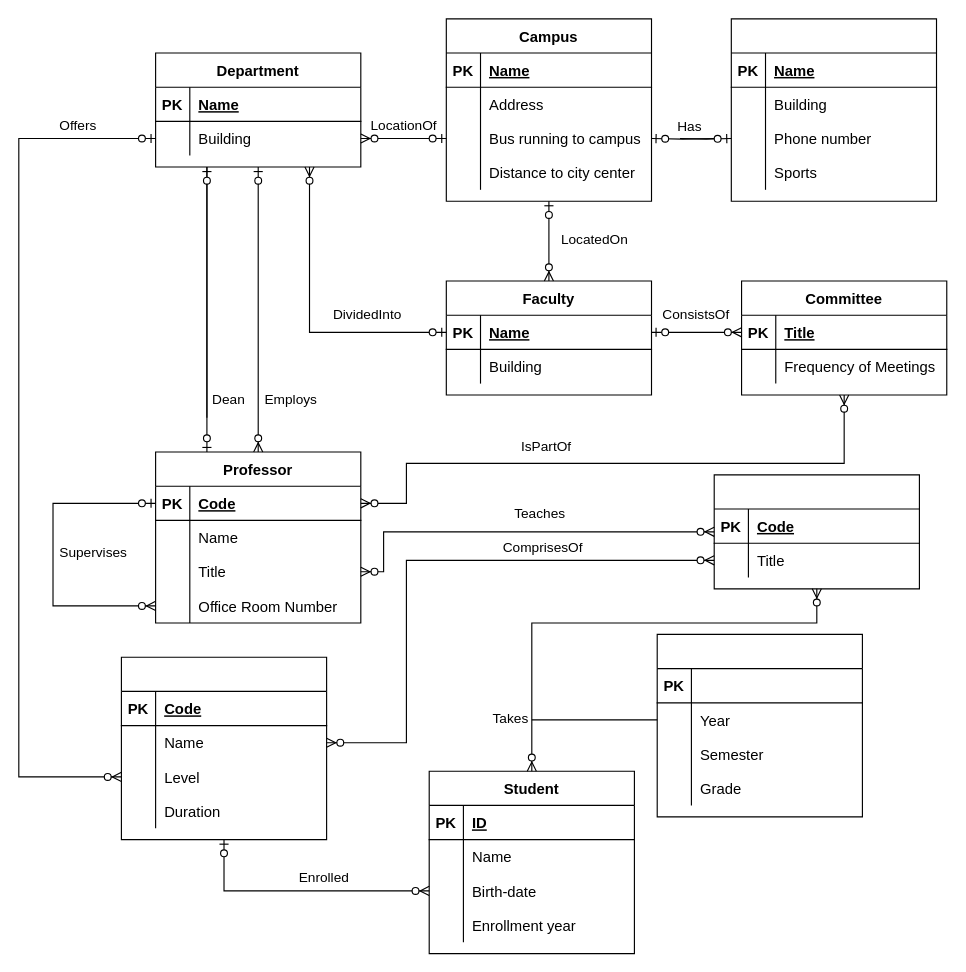
The diagram is 966 pixels wide and 972 high, and some of its shapes have lost their labels. The box of each missing label's shape, as (x1, y1, x2, y2) in pixels:
Club: (730, 18, 937, 201)
Course: (713, 474, 919, 589)
Program: (120, 656, 327, 840)
